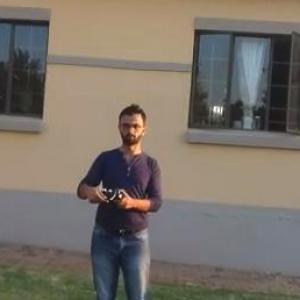follow: (65, 96, 170, 299)
